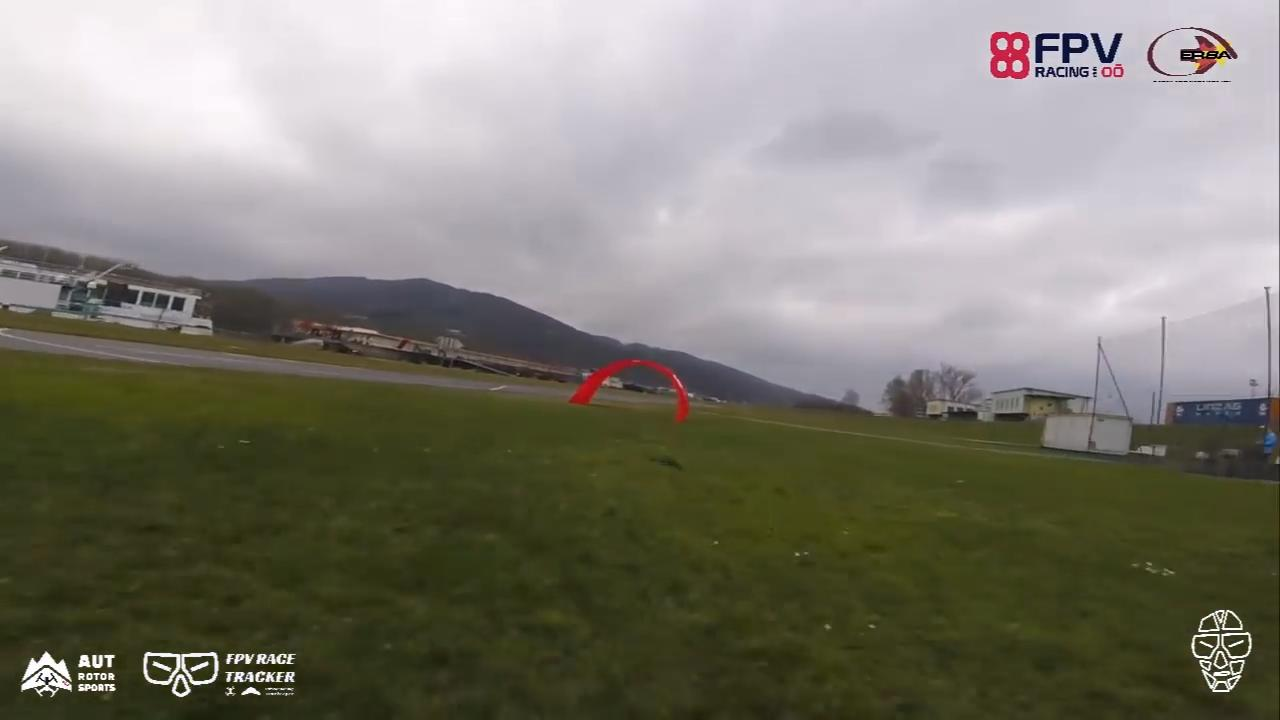gate: (568, 356, 689, 426)
